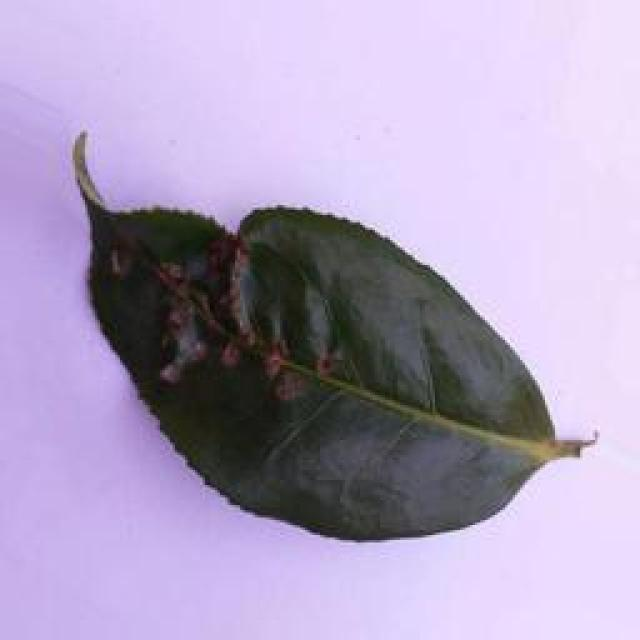Helopeltis: (66, 128, 593, 544)
